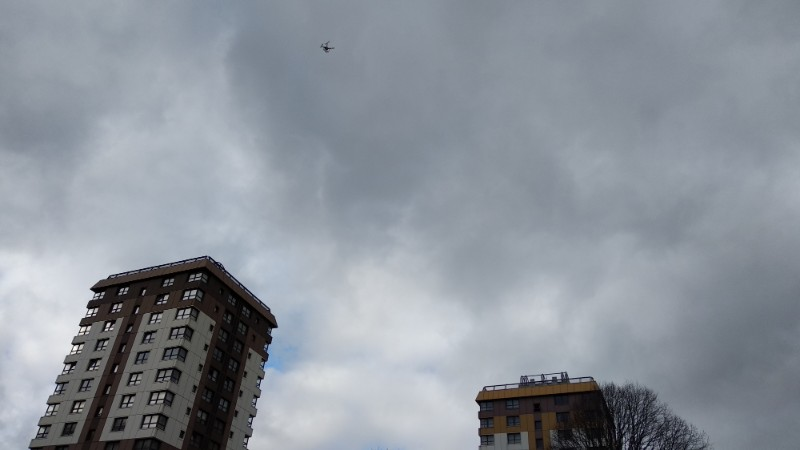drone: (320, 41, 335, 53)
